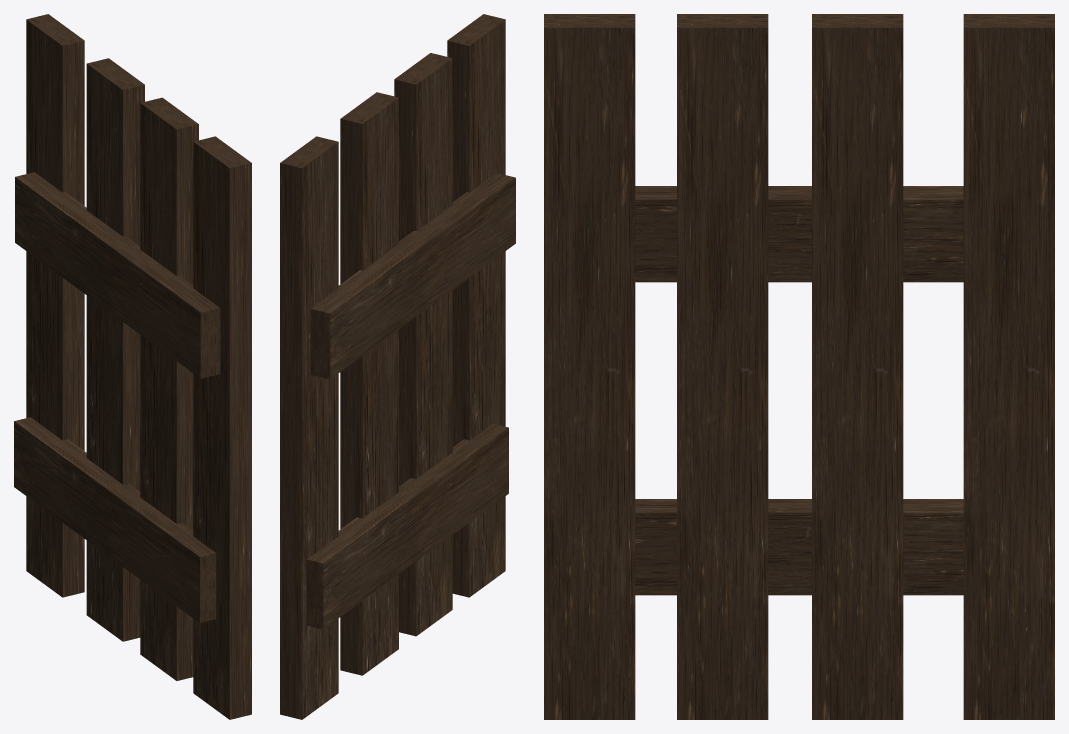
Rendered from fencev1.fbx.
The picture shows the model from 3 angles, left to right: view 1: azimuth 30°, elevation 25°; view 2: azimuth 150°, elevation 25°; view 3: azimuth 270°, elevation 25°; orthographic projection. The views are drawn at different scales.
Visible parts, largest first — view 1: pCube1, pCube5, pCube3, pCube2, pCube7, pCube6; view 2: pCube5, pCube3, pCube1, pCube2, pCube7, pCube6; view 3: pCube1, pCube2, pCube3, pCube5, pCube6, pCube7.
Boxes of the visible parts, left/top/right/bottom form: pCube1: left=193, top=136, right=251, bottom=719; pCube5: left=26, top=14, right=84, bottom=597; pCube3: left=86, top=58, right=144, bottom=641; pCube2: left=140, top=97, right=198, bottom=680; pCube7: left=15, top=172, right=220, bottom=378; pCube6: left=14, top=417, right=216, bottom=622; pCube5: left=280, top=136, right=338, bottom=719; pCube3: left=340, top=92, right=398, bottom=675; pCube1: left=447, top=14, right=505, bottom=597; pCube2: left=394, top=53, right=452, bottom=636; pCube7: left=310, top=173, right=515, bottom=379; pCube6: left=306, top=423, right=508, bottom=629; pCube1: left=544, top=14, right=635, bottom=719; pCube2: left=677, top=14, right=768, bottom=719; pCube3: left=812, top=14, right=903, bottom=719; pCube5: left=963, top=14, right=1054, bottom=719; pCube6: left=635, top=499, right=963, bottom=595; pCube7: left=635, top=186, right=963, bottom=282.
Bounding box in the file's own units: 0.6613 × 8.37 × 5.59.
